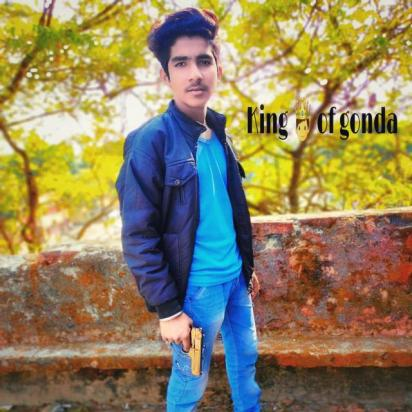Gun: (158, 321, 206, 381)
